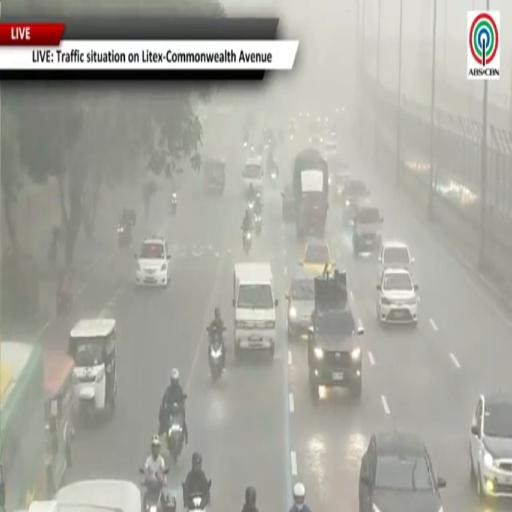bus: (0, 342, 46, 511)
car: (308, 271, 363, 399), (359, 431, 446, 511), (470, 392, 511, 501), (376, 268, 418, 325), (286, 269, 314, 340), (135, 237, 170, 286), (353, 199, 383, 255), (300, 239, 335, 276), (341, 179, 369, 225), (379, 242, 414, 275), (281, 182, 295, 223), (324, 140, 338, 161), (309, 134, 323, 150)
motorcycle: (207, 328, 226, 381), (167, 404, 184, 463), (143, 479, 167, 511), (184, 492, 209, 511), (56, 288, 73, 315), (117, 221, 131, 248), (243, 231, 251, 254), (254, 213, 261, 235), (171, 192, 177, 216), (271, 168, 277, 185), (248, 200, 254, 211)
truck: (293, 149, 329, 238)
